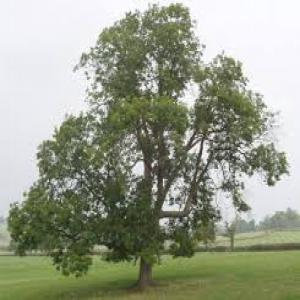Tree: (7, 3, 286, 282)
